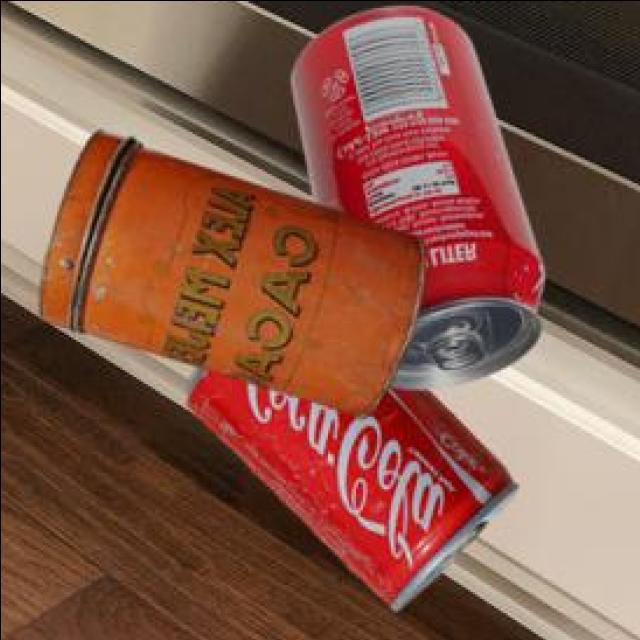logam: (43, 125, 426, 415), (293, 1, 548, 384), (190, 361, 520, 606)
